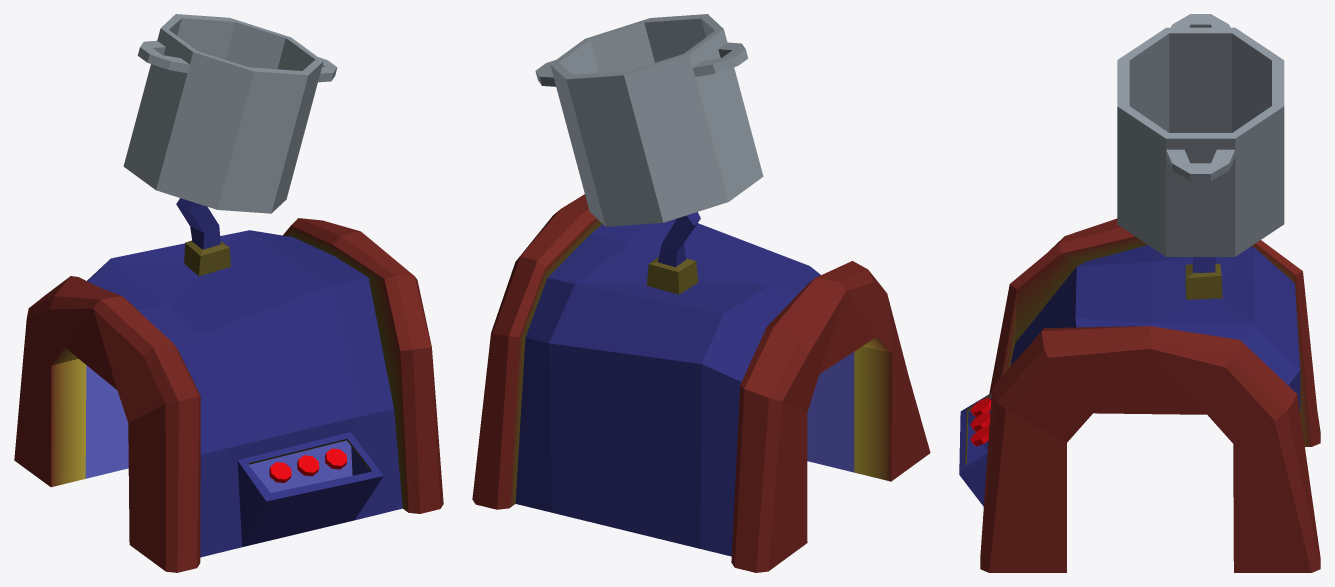
Rendered from machine_cooker.fbx.
3 renders of one model, left to right at view 1: azimuth 30°, elevation 25°; view 2: azimuth 150°, elevation 25°; view 3: azimuth 270°, elevation 25°, orthographic. The views are drawn at different scales.
Visible parts, largest first — view 1: machine_body, machine_head_cooker; view 2: machine_body, machine_head_cooker; view 3: machine_body, machine_head_cooker.
Boxes of the visible parts, x1,y1,x2,y2 form: machine_body: [14, 218, 443, 572]; machine_head_cooker: [123, 14, 337, 249]; machine_body: [472, 194, 930, 572]; machine_head_cooker: [535, 14, 763, 267]; machine_body: [959, 218, 1320, 572]; machine_head_cooker: [1117, 14, 1284, 273].
Bounding box in the file's own units: 202 × 297 × 212.
